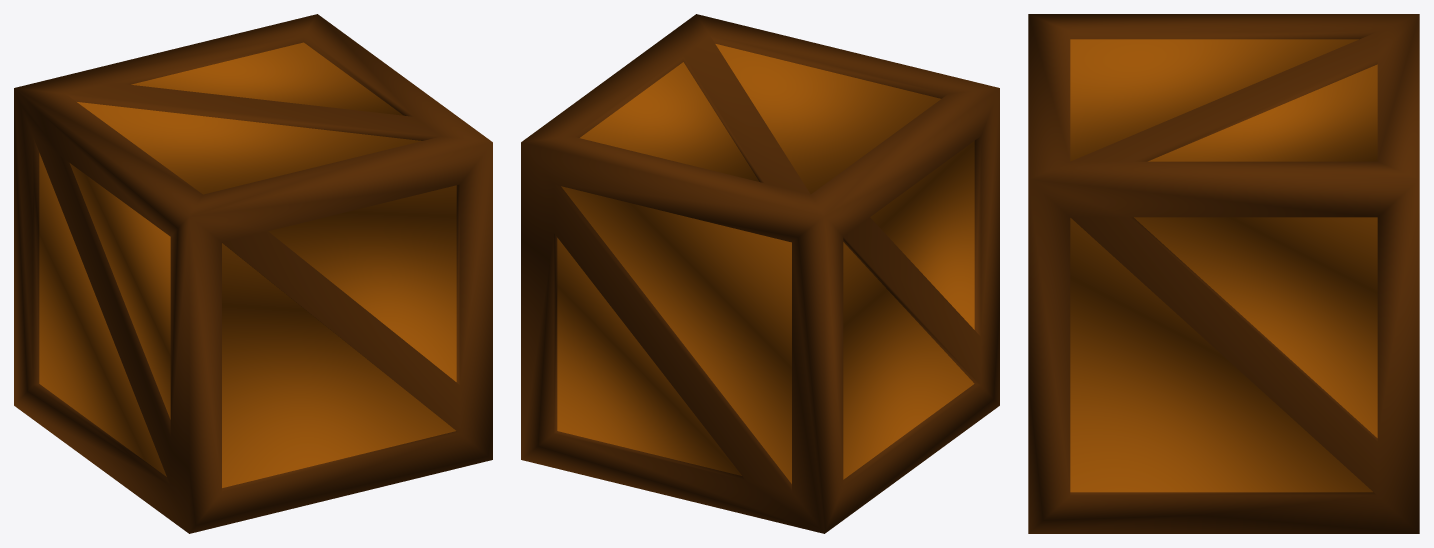
Rendered from CrateBoxTriagle.fbx.
The picture shows the model from 3 angles, left to right: view 1: azimuth 30°, elevation 25°; view 2: azimuth 150°, elevation 25°; view 3: azimuth 270°, elevation 25°; orthographic projection. The views are drawn at different scales.
Parts seen in each view (by area): view 1: crate-box-traingle; view 2: crate-box-traingle; view 3: crate-box-traingle.
Part boxes in pixels (x1=…): crate-box-traingle: x1=14, y1=14, x2=492, y2=533; crate-box-traingle: x1=521, y1=14, x2=999, y2=533; crate-box-traingle: x1=1028, y1=14, x2=1419, y2=533.
Bounding box in the file's own units: 100 × 100 × 100.
Materials: 1 (1 with a texture image).
